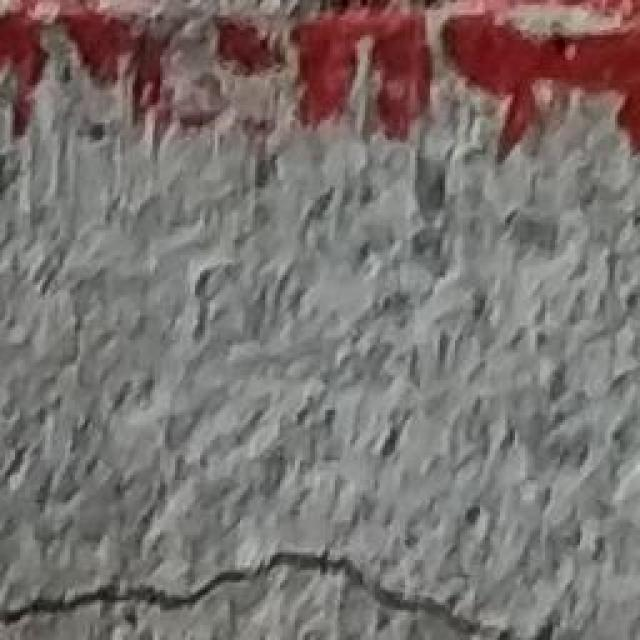Transverse: (2, 535, 572, 640)
